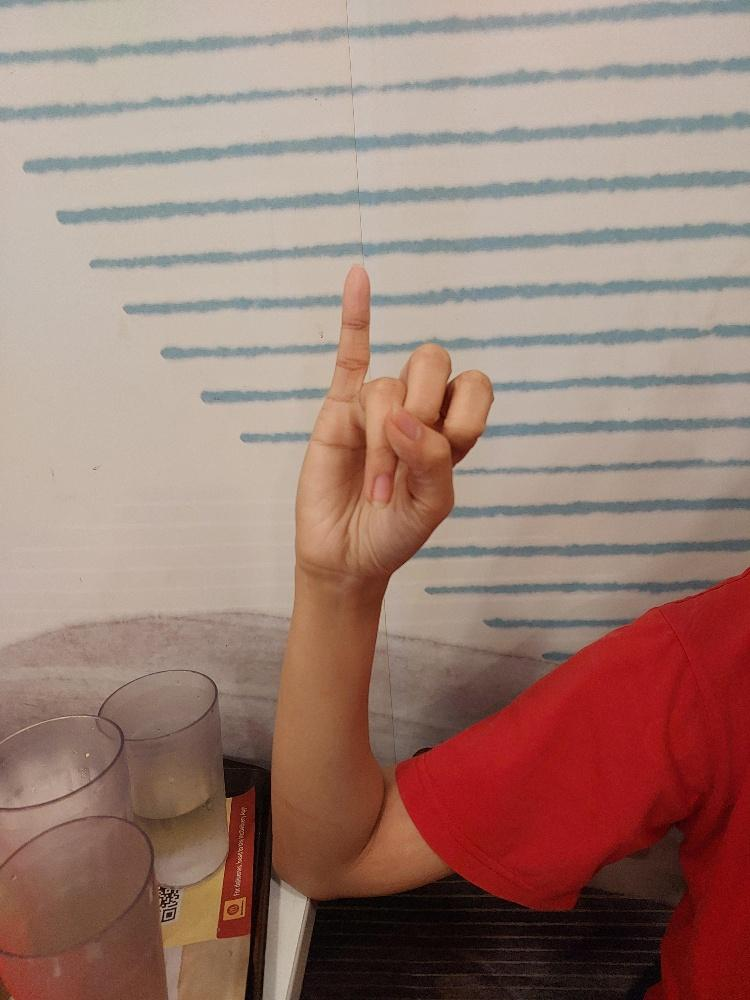i: (294, 260, 496, 576)
